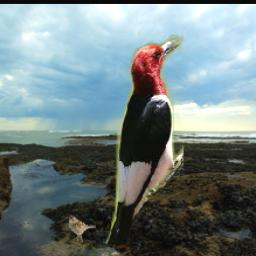Sparrow: (68, 214, 96, 242)
Woodpecker: (104, 35, 185, 244)
